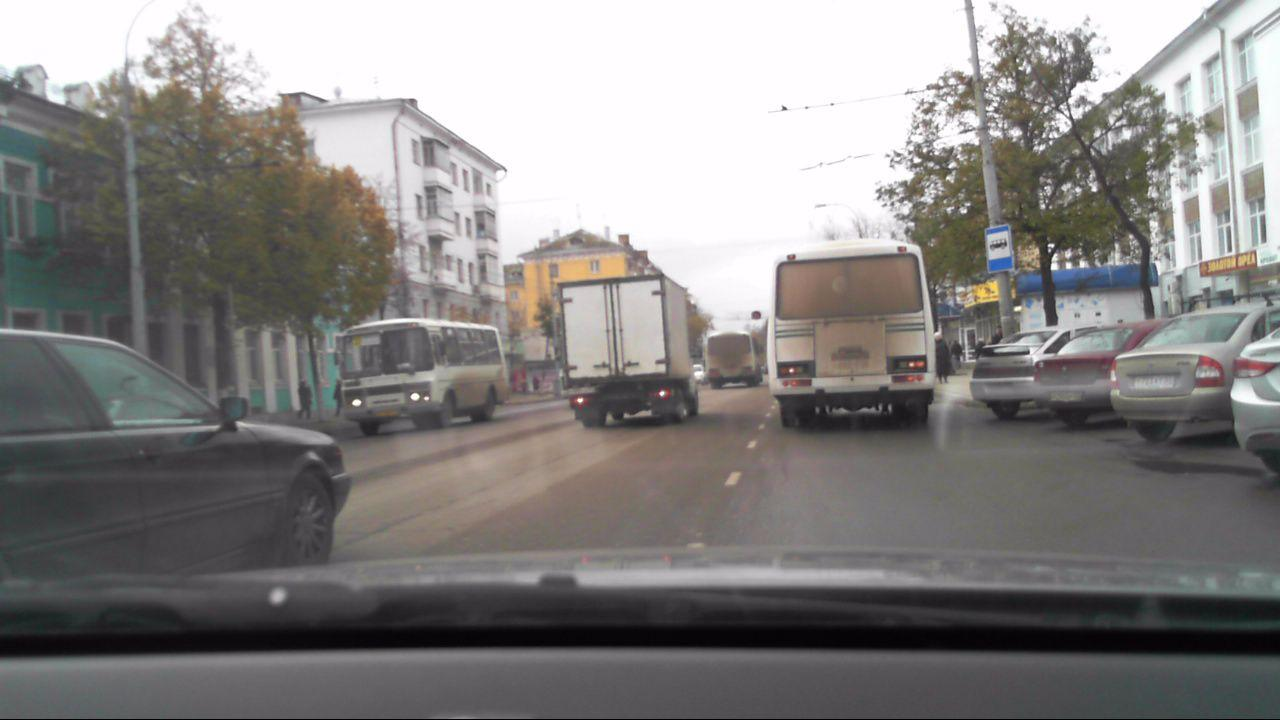5_16: (986, 225, 1014, 273)
